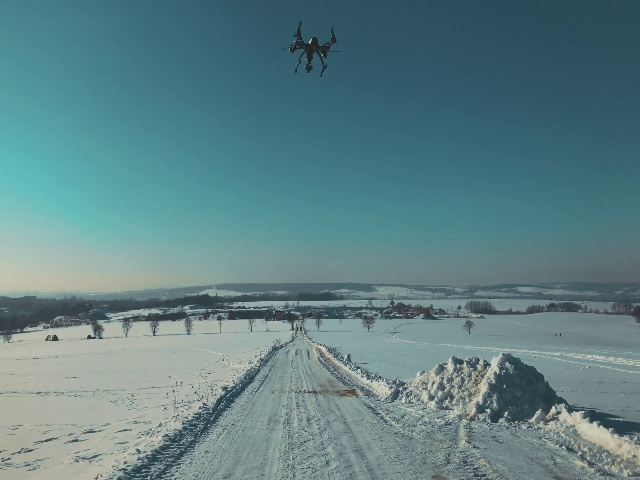drone: (281, 19, 344, 79)
